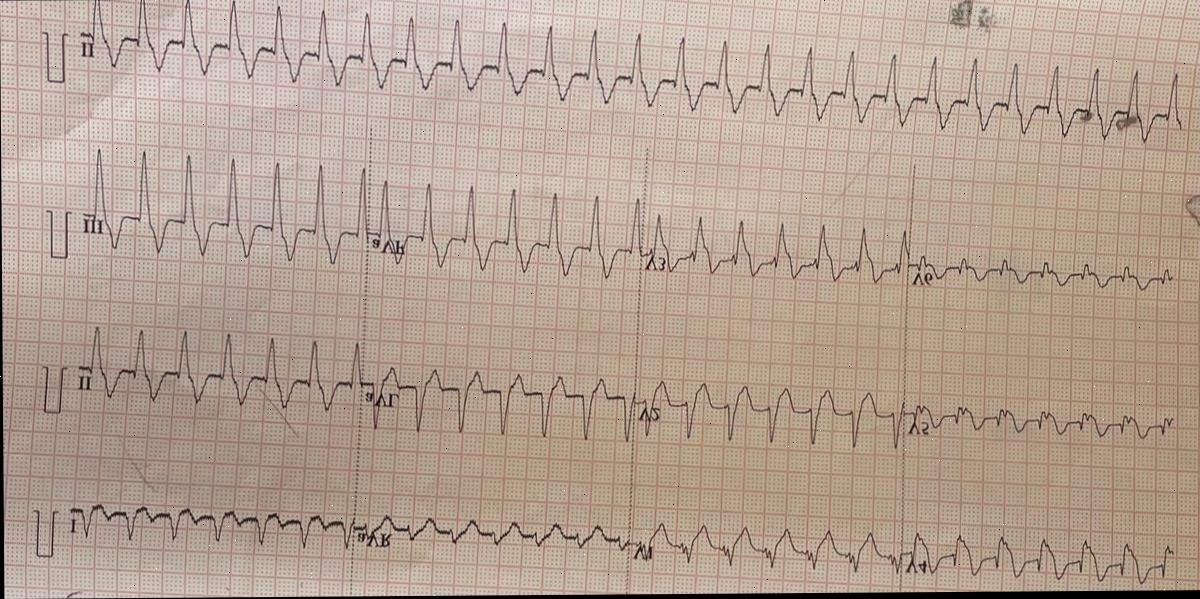Lead_I: (61, 490, 355, 557)
Lead_II: (65, 317, 369, 424)
Lead_III: (71, 143, 373, 269)
Lead_II_ext: (66, 0, 1189, 162)
Lead_V1: (629, 501, 903, 586)
Lead_V2: (638, 371, 907, 456)
Lead_V3: (636, 199, 912, 304)
Lead_V4: (901, 507, 1192, 594)
Lead_V5: (902, 381, 1185, 466)
Lead_V6: (907, 248, 1191, 308)
Lead_aVF: (366, 150, 649, 297)
Lead_aVL: (356, 339, 639, 455)
Lead_aVR: (352, 492, 631, 571)
